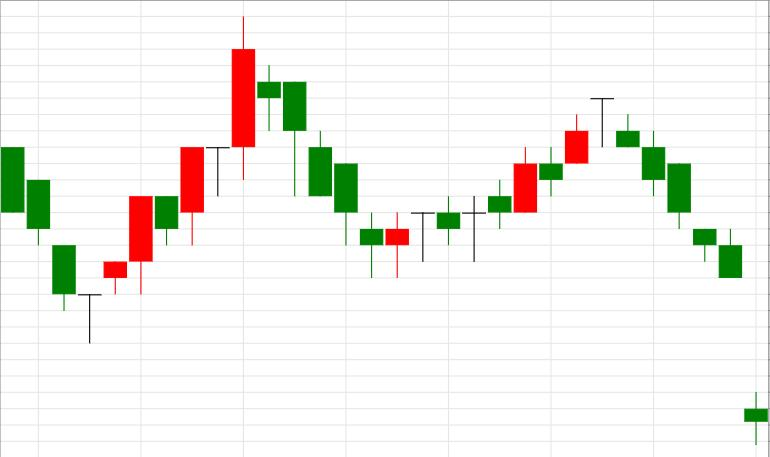evening_star_fall: (463, 98, 639, 262)
morning_star_rise: (1, 146, 127, 343)
